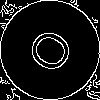O: (25, 25, 84, 81)
